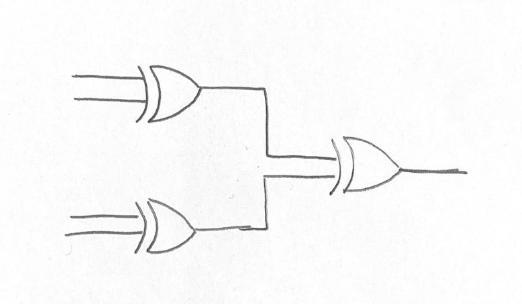XOR: (129, 53, 213, 136), (323, 121, 405, 206), (126, 189, 205, 259)
